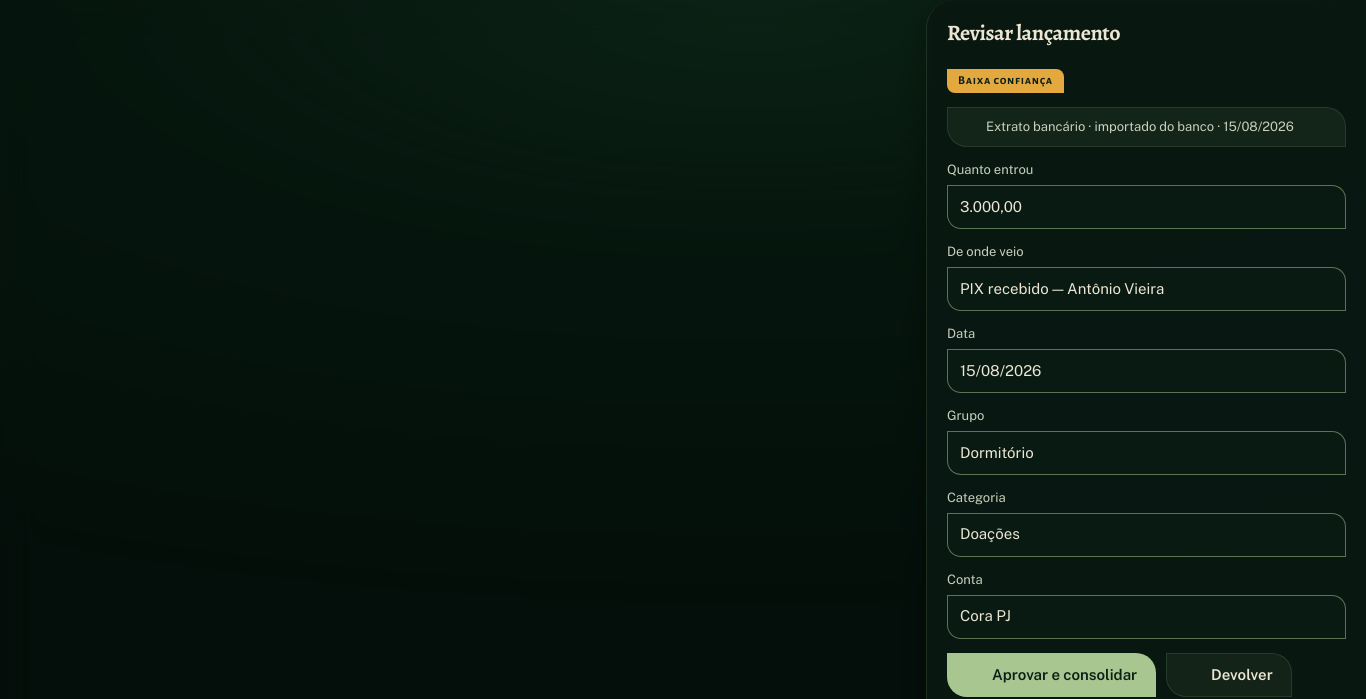
PainelDeRevisao: devolver a quem enviou › item importado, sem remetente — a caixa diz Devolver a quem enviou
Click the button "Devolver" at (1229, 674), box [1166, 652, 1292, 696]
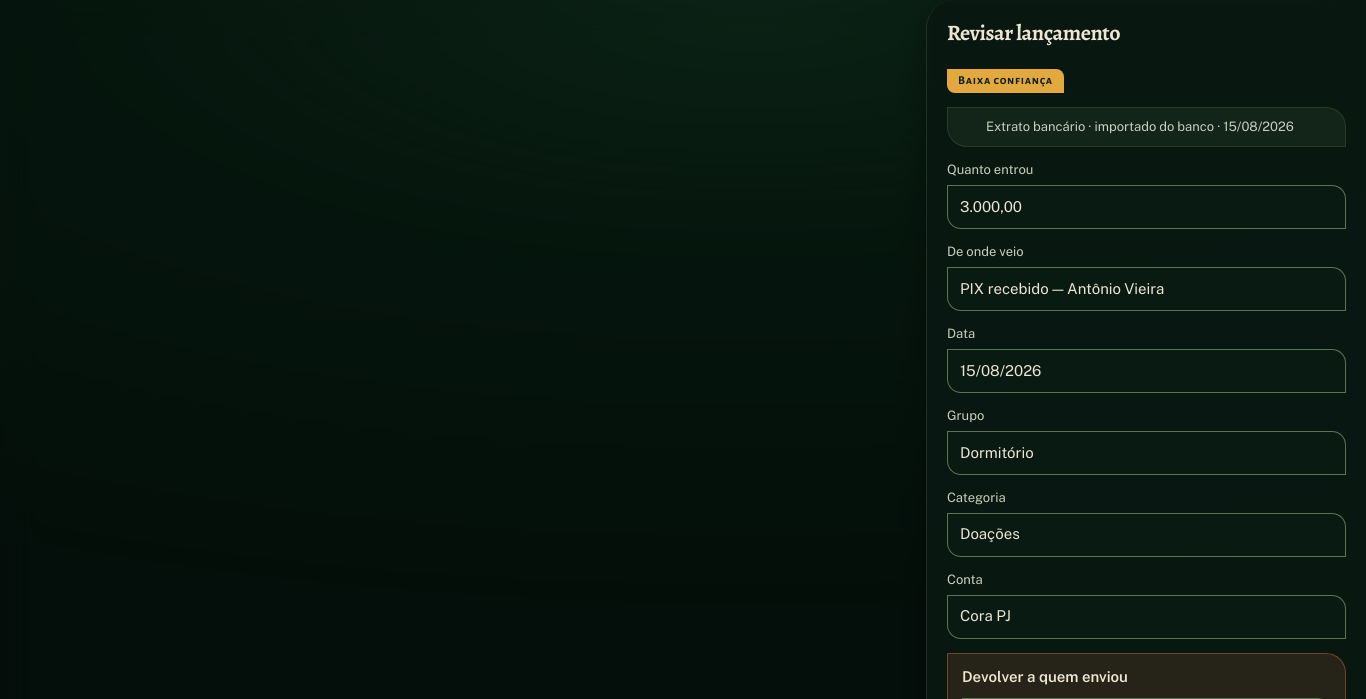
Check: the text "Devolver a quem enviou" is shown, box [962, 668, 1128, 684]
